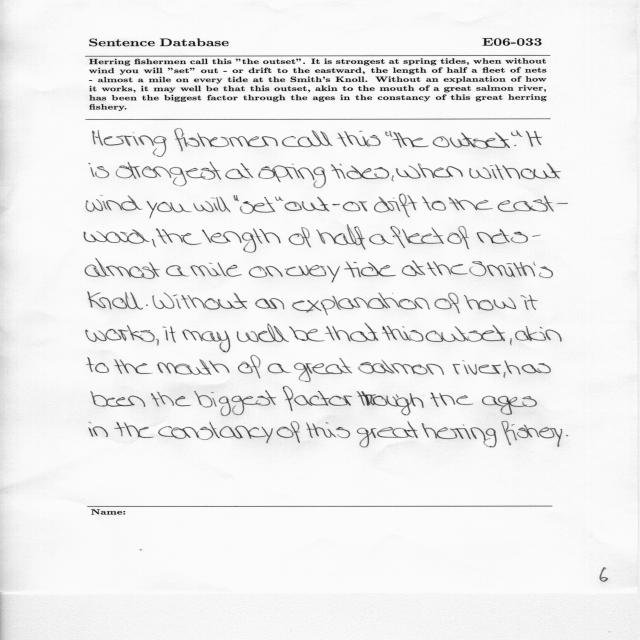word: (292, 293, 430, 316), (116, 162, 221, 186), (158, 422, 273, 443), (174, 129, 278, 152), (194, 390, 276, 416), (93, 130, 167, 157), (202, 228, 281, 253), (422, 424, 497, 448), (283, 386, 352, 411), (357, 421, 418, 448), (258, 164, 326, 188), (153, 293, 248, 310), (357, 392, 424, 416), (502, 421, 563, 447), (85, 258, 160, 279), (469, 163, 561, 180), (86, 325, 159, 346), (469, 261, 553, 278), (294, 358, 352, 382), (426, 325, 506, 342), (433, 132, 510, 149), (316, 224, 366, 250), (358, 360, 444, 375), (498, 195, 568, 212), (390, 226, 444, 248), (182, 330, 230, 353), (157, 360, 229, 375), (396, 163, 463, 179), (482, 396, 537, 415), (325, 323, 379, 342), (84, 229, 150, 244), (88, 292, 143, 310), (374, 194, 417, 217), (86, 195, 143, 212), (237, 324, 289, 342), (285, 265, 340, 282), (331, 164, 389, 179), (282, 130, 333, 147), (91, 391, 145, 407), (344, 262, 396, 278), (146, 201, 192, 218), (156, 228, 202, 245), (190, 262, 242, 277), (464, 295, 516, 310), (477, 229, 528, 244), (515, 326, 562, 342), (453, 360, 501, 375), (337, 131, 381, 147), (306, 422, 350, 438), (390, 131, 429, 148), (504, 361, 551, 375), (382, 326, 423, 342), (431, 392, 474, 407), (114, 422, 154, 438), (285, 197, 330, 211), (427, 261, 468, 276), (240, 197, 275, 214), (448, 197, 493, 210), (114, 359, 153, 374), (289, 326, 325, 342), (193, 197, 231, 212), (151, 392, 191, 406), (238, 355, 260, 379), (276, 421, 300, 443), (435, 293, 460, 314), (447, 226, 469, 249), (289, 227, 311, 248), (226, 163, 254, 179), (249, 266, 283, 278), (402, 260, 426, 276), (422, 196, 446, 211), (87, 357, 109, 373), (255, 298, 285, 309), (89, 163, 109, 178), (88, 422, 108, 437), (166, 265, 189, 277), (343, 201, 368, 212), (369, 234, 394, 245), (520, 295, 538, 310), (526, 131, 542, 147), (268, 363, 291, 373), (165, 326, 176, 343), (511, 130, 522, 137), (275, 196, 283, 201), (233, 195, 239, 201), (152, 239, 156, 247), (392, 175, 395, 182), (386, 132, 390, 137), (532, 235, 541, 237), (510, 339, 512, 346), (504, 372, 506, 378), (332, 204, 340, 205), (163, 326, 167, 328), (146, 304, 148, 306), (515, 145, 517, 146), (566, 435, 568, 436)
